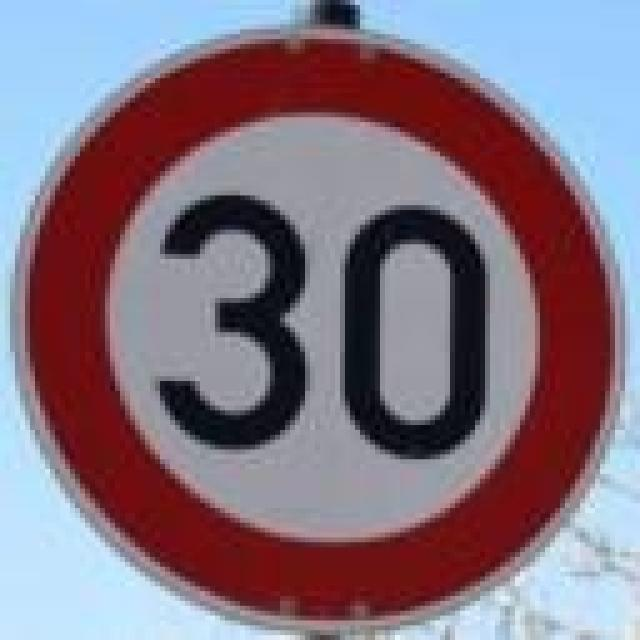speed limit 30: (12, 28, 622, 631)
